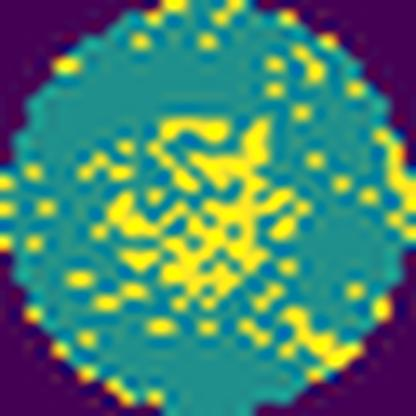Center: (91, 112, 306, 314)
